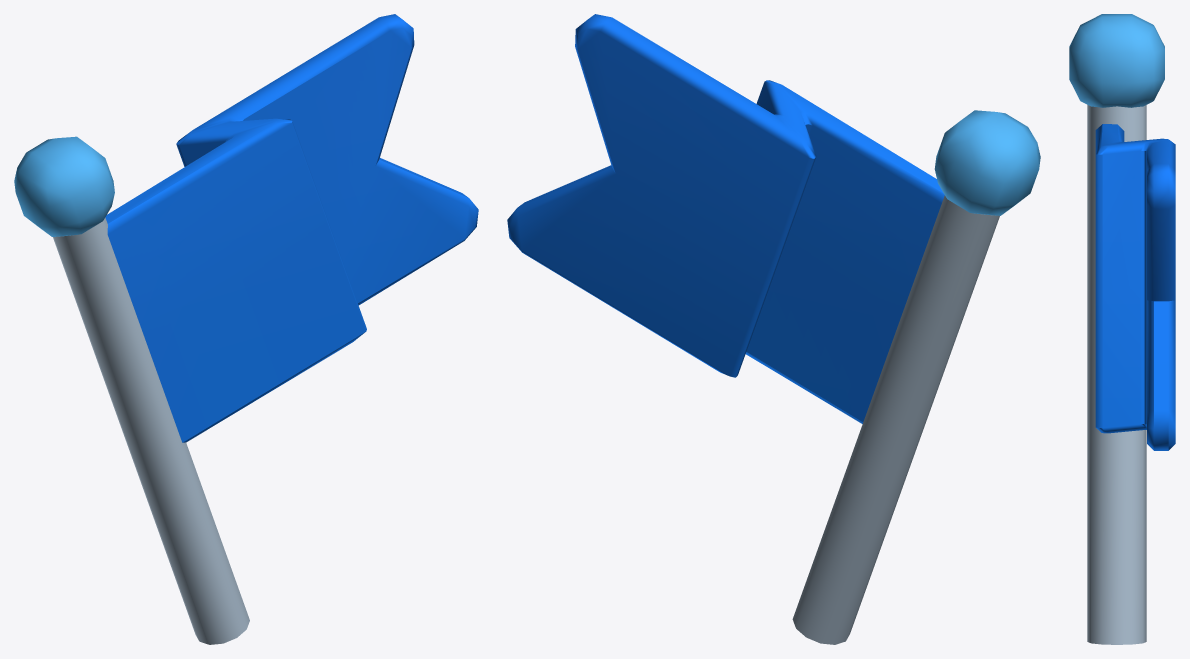
The picture shows the model from 3 angles, left to right: view 1: azimuth 30°, elevation 25°; view 2: azimuth 150°, elevation 25°; view 3: azimuth 270°, elevation 25°; orthographic projection. The views are drawn at different scales.
Parts seen in each view (by area): view 1: model_0.107; view 2: model_0.107; view 3: model_0.107.
Boxes of the visible parts, x1,y1,x2,y2 form: model_0.107: [14, 14, 478, 644]; model_0.107: [507, 14, 1040, 644]; model_0.107: [1069, 14, 1175, 644].
Size of the model in its own units: 3.84 by 4.31 by 0.7181.
